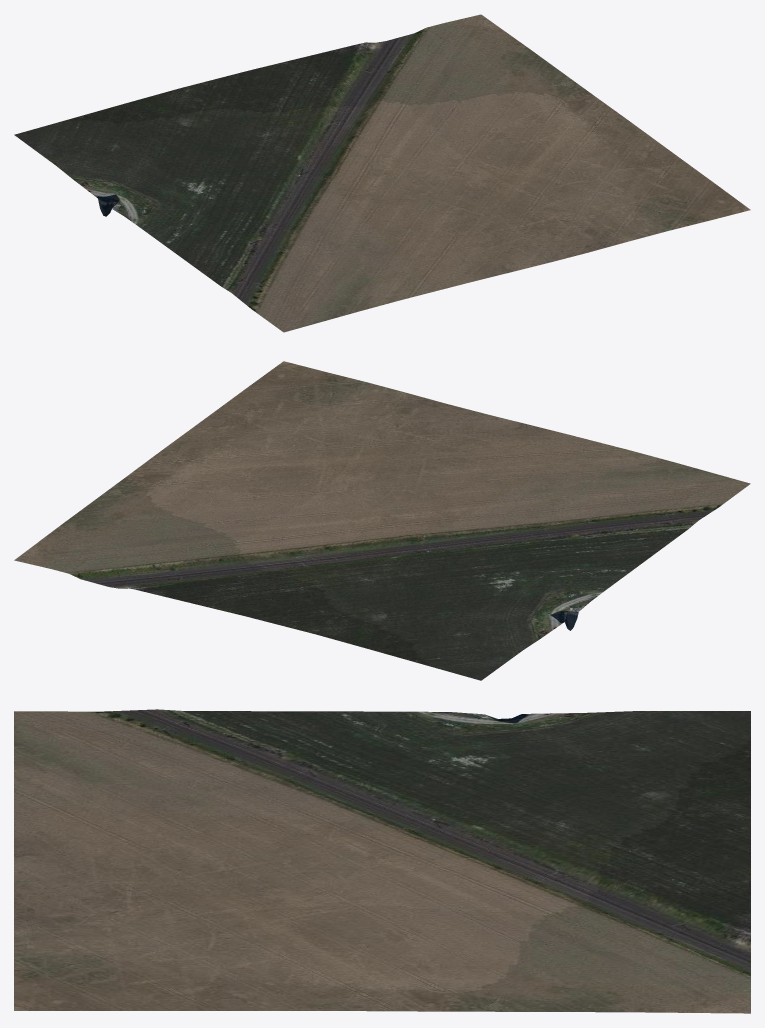
File: map_13_2042_3443.dae
3 renders of one model, top to bottom at view 1: azimuth 30°, elevation 25°; view 2: azimuth 150°, elevation 25°; view 3: azimuth 270°, elevation 25°, orthographic. The views are drawn at different scales.
Parts seen in each view (by area): view 1: Ter0; view 2: Ter0; view 3: Ter0.
Boxes of the visible parts, x1,y1,x2,y2 form: Ter0: (14, 14, 750, 332); Ter0: (14, 361, 750, 680); Ter0: (14, 709, 750, 1013).
Bounding box in the file's own units: 256 × 256 × 12.49.
2 materials, 2 textured.
